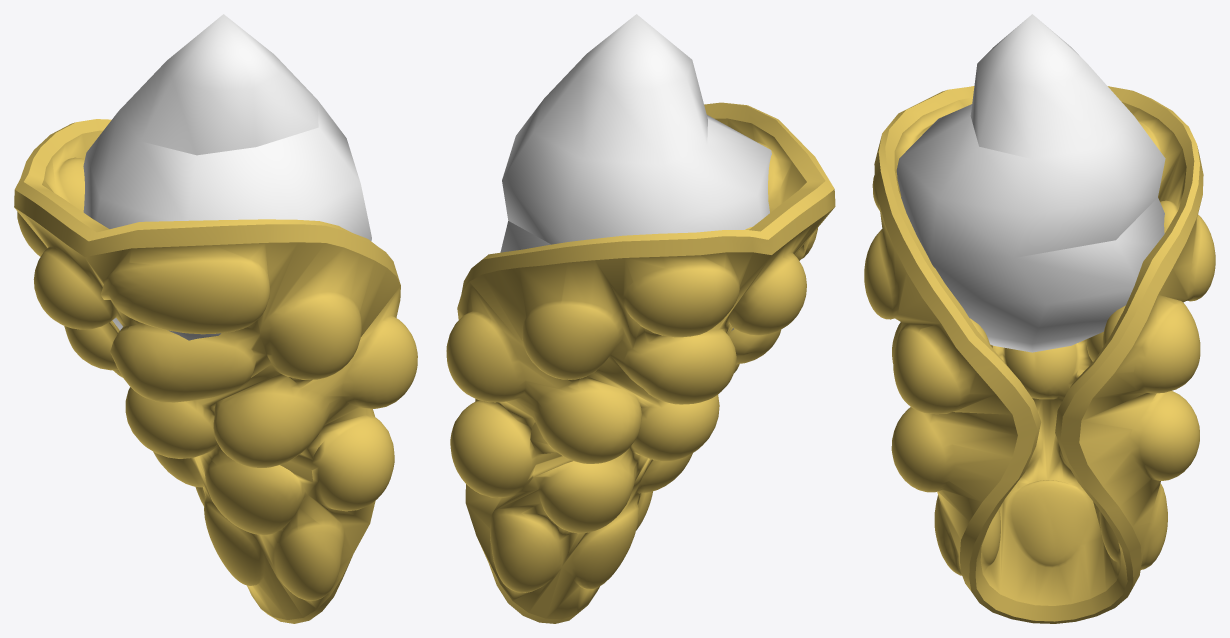
The model's file is Waffle.fbx.
The picture shows the model from 3 angles, left to right: view 1: azimuth 30°, elevation 25°; view 2: azimuth 150°, elevation 25°; view 3: azimuth 270°, elevation 25°; orthographic projection. The views are drawn at different scales.
Visible parts, largest first — view 1: Waffle; view 2: Waffle; view 3: Waffle.
Part boxes in pixels (bbox=[...]): Waffle: bbox=[14, 14, 417, 623]; Waffle: bbox=[446, 14, 835, 623]; Waffle: bbox=[864, 14, 1215, 623].
Bounding box in the file's own units: 21.49 × 40.03 × 21.82.
